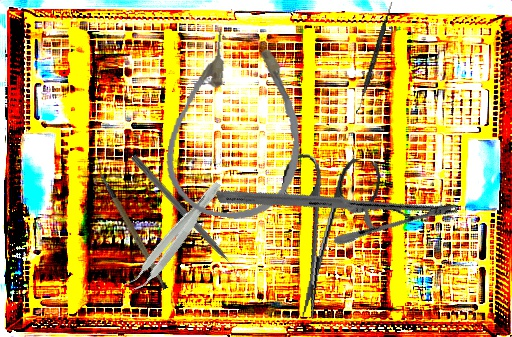Cannula: (159, 25, 315, 227)
Iris Scissors: (262, 148, 383, 326)
Needle Holder: (214, 99, 460, 307)
Pusher: (129, 153, 244, 280)
Scalpel Handle: (99, 164, 170, 297)
Spatula Surgical: (355, 0, 394, 116)
Tissue Forceps: (122, 175, 226, 298)
